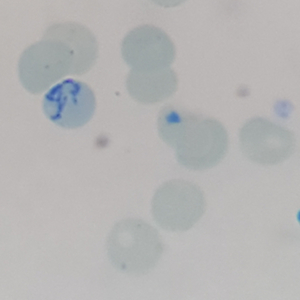aggregate reticulocyte: (41, 76, 98, 131)
erythrocyte: (38, 20, 100, 78), (155, 103, 217, 159), (148, 176, 207, 234), (170, 116, 231, 172), (236, 115, 300, 166), (119, 23, 178, 73), (123, 62, 181, 106)
punctate reticulocyte: (103, 216, 165, 275), (16, 37, 77, 96)
